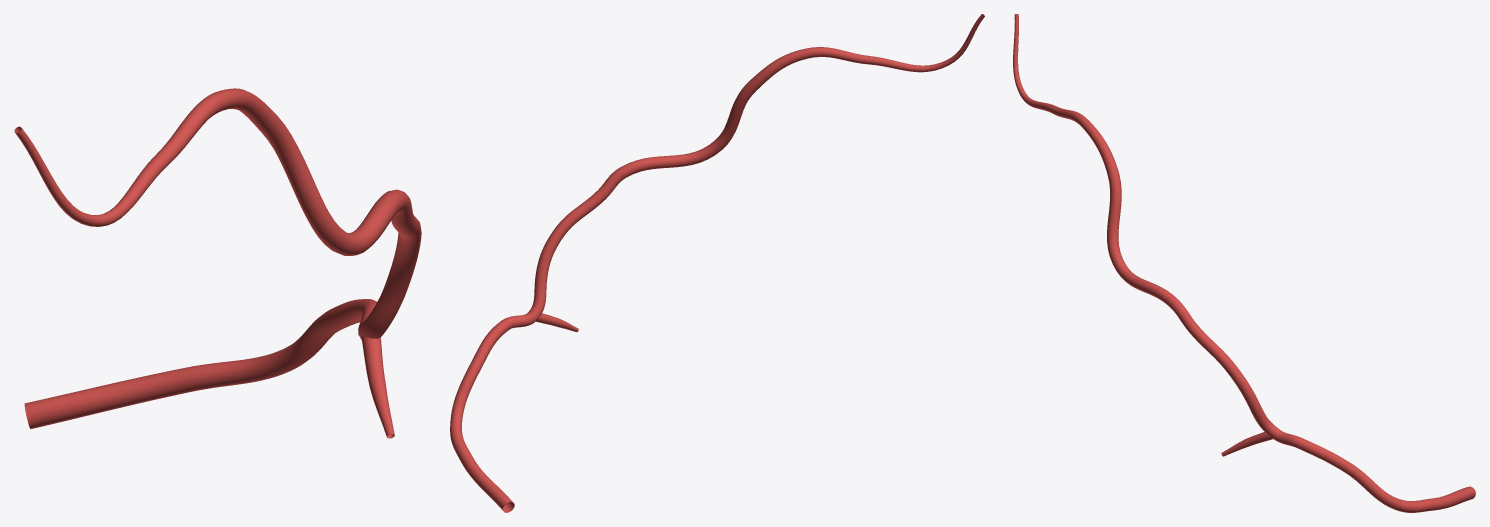
The picture shows the model from 3 angles, left to right: view 1: azimuth 30°, elevation 25°; view 2: azimuth 150°, elevation 25°; view 3: azimuth 270°, elevation 25°; orthographic projection. The views are drawn at different scales.
Visible parts, largest first — view 1: 左侧中央后沟动脉; view 2: 左侧中央后沟动脉; view 3: 左侧中央后沟动脉.
Boxes of the visible parts, box(x1,y1,x2,y2) form: 左侧中央后沟动脉: box(14, 88, 421, 438); 左侧中央后沟动脉: box(450, 14, 984, 512); 左侧中央后沟动脉: box(1013, 14, 1475, 512).
Size of the model in its own units: 0.068 by 0.073 by 0.0822.
